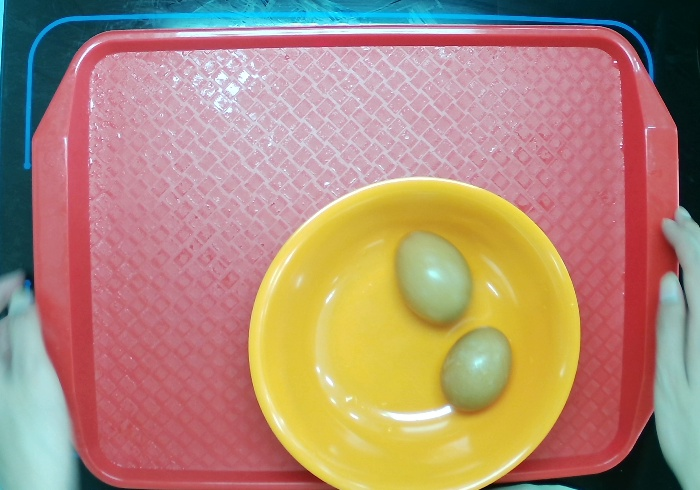YKMZ-Ju_Se_Tang_Wan: (248, 175, 579, 490)
